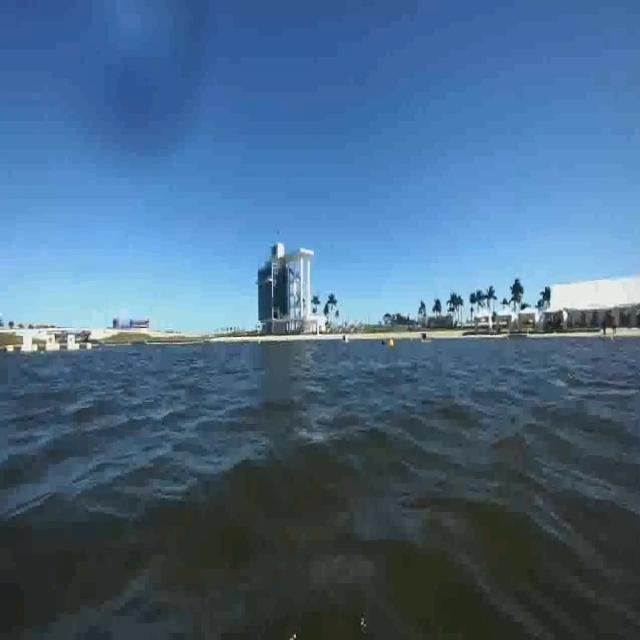yellow-buoy: (386, 339, 393, 351)
